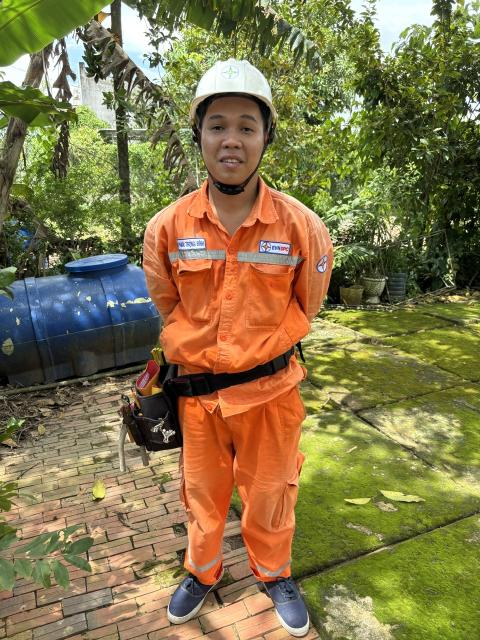harness: (133, 326, 352, 404)
helmet: (189, 53, 283, 147)
shoes: (139, 522, 238, 624), (234, 537, 330, 639)
